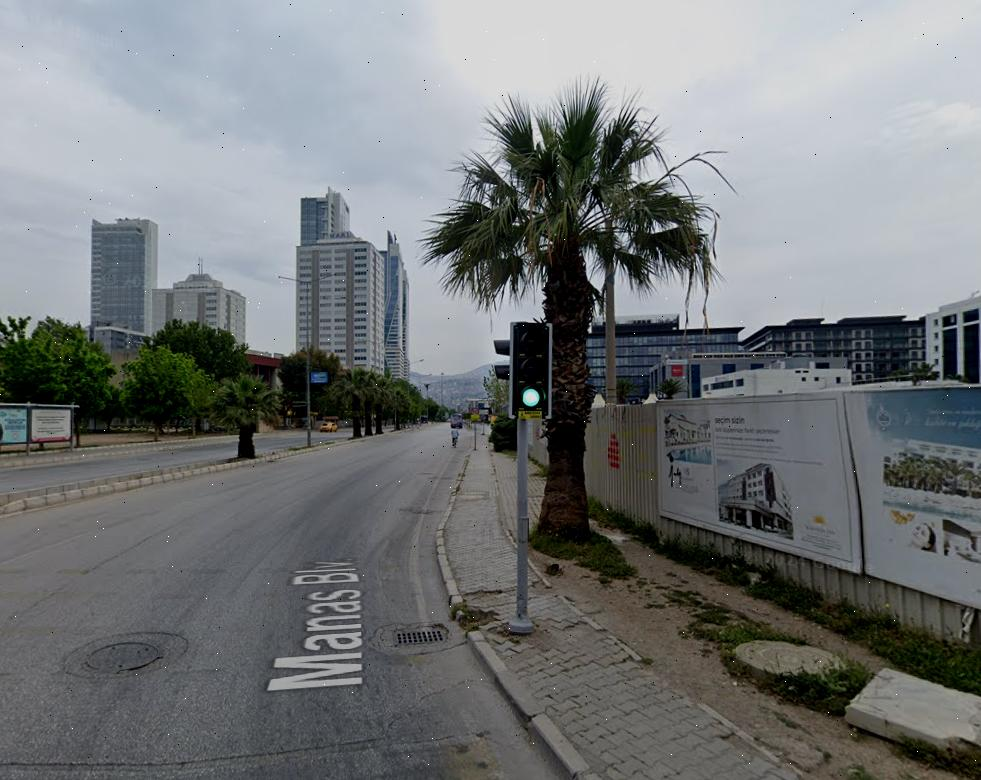greenlight: (512, 321, 552, 409)
